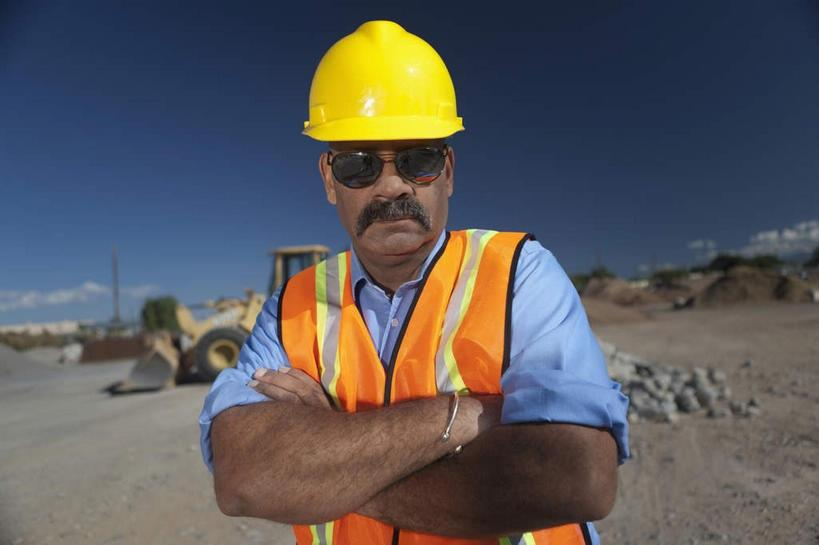helmet: (296, 14, 467, 148)
wear: (257, 257, 591, 545)
